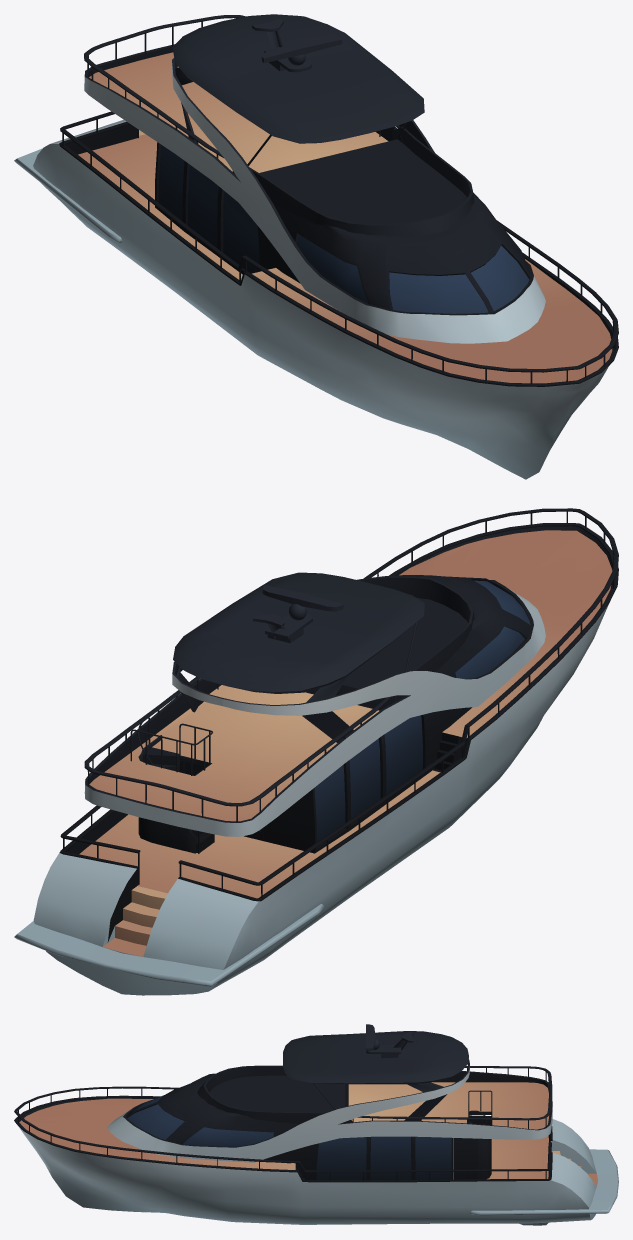
The model's file is Yacht.fbx.
The picture shows the model from 3 angles, top to bottom: view 1: azimuth 30°, elevation 25°; view 2: azimuth 150°, elevation 25°; view 3: azimuth 270°, elevation 25°; orthographic projection. The views are drawn at different scales.
Parts seen in each view (by area): view 1: Hull_Yacht_0; view 2: Hull_Yacht_0; view 3: Hull_Yacht_0.
Boxes of the visible parts, x1,y1,x2,y2 form: Hull_Yacht_0: (14,14,618,479); Hull_Yacht_0: (14,508,618,995); Hull_Yacht_0: (14,1024,618,1225).
Bounding box in the file's own units: 568 × 710 × 2055.
